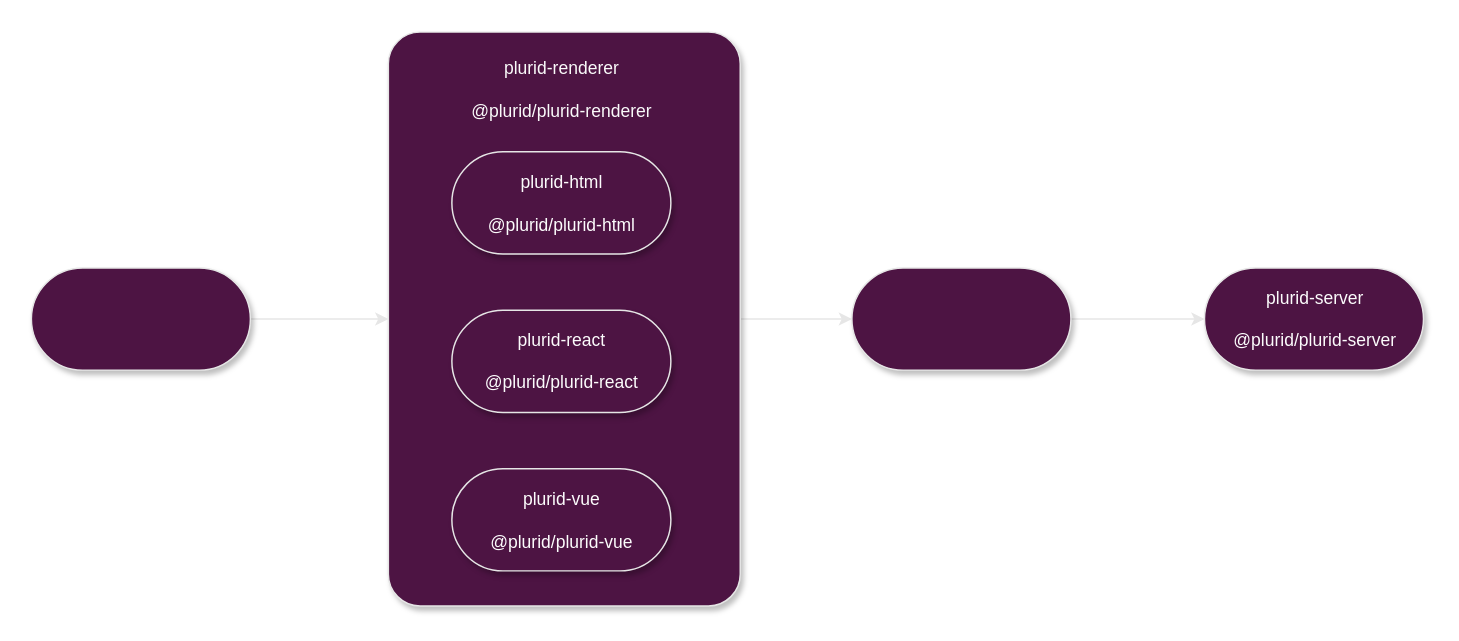
Some shapes in this 1459 by 641 pixel diagram are drawn without their labels. The shapes that lost their labels are listed below. From the top down, each one's centre as x and y in pixels, then its label:
(x=141, y=320): plurid-engine @plurid/plurid-engine
(x=962, y=320): plurid-state @plurid/plurid-state
